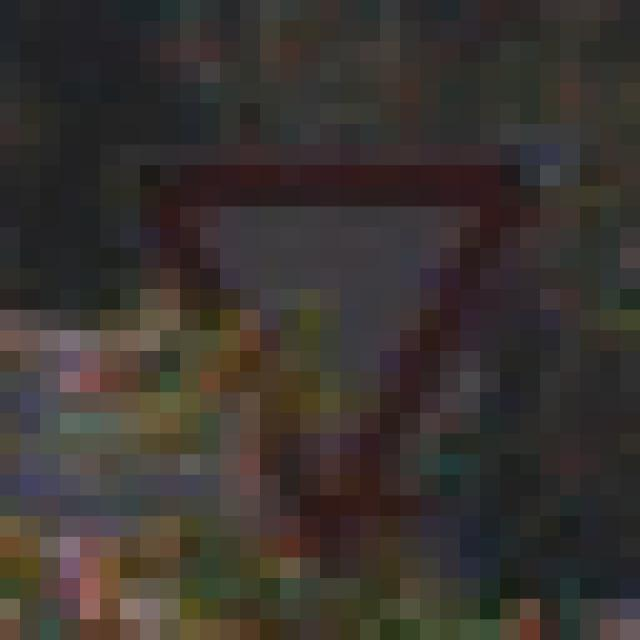Give Way: (101, 125, 541, 538)
